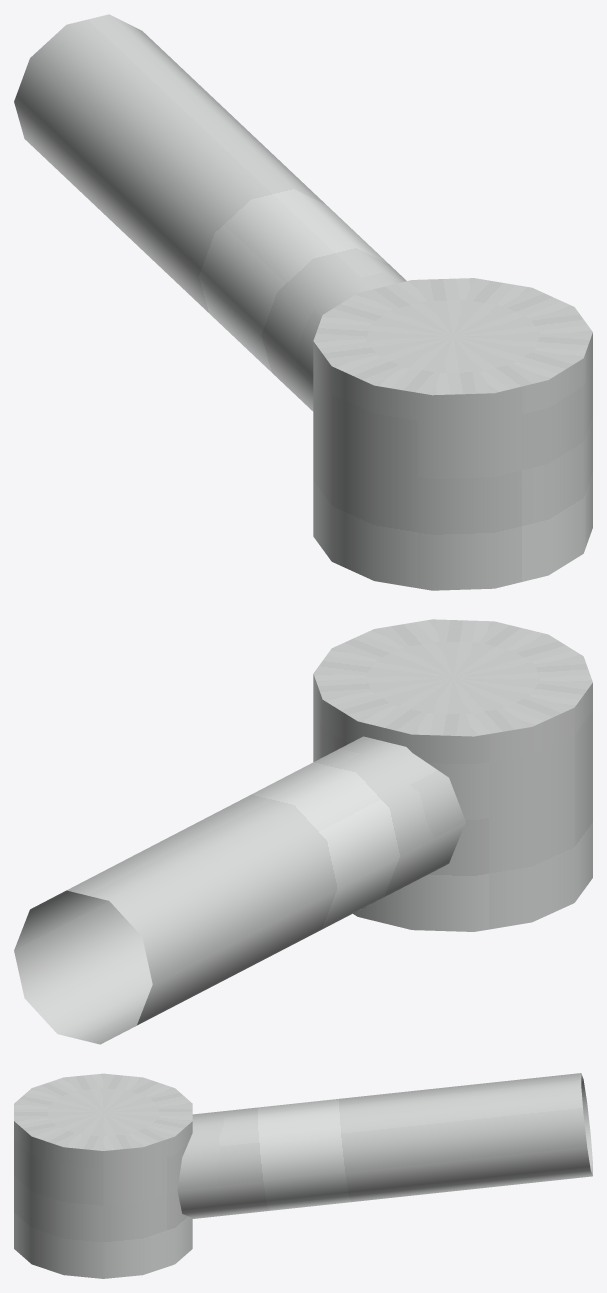
Rendered from trusssignalarm_sloped8_c0_thin.obj.
3 renders of one model, top to bottom at view 1: azimuth 30°, elevation 25°; view 2: azimuth 150°, elevation 25°; view 3: azimuth 270°, elevation 25°, orthographic. The views are drawn at different scales.
Visible parts, largest first — view 1: trusssignalarm_sloped8_c0_thin; view 2: trusssignalarm_sloped8_c0_thin; view 3: trusssignalarm_sloped8_c0_thin.
Boxes of the visible parts, box(x1,y1,x2,y2) form: trusssignalarm_sloped8_c0_thin: box(14, 14, 592, 590); trusssignalarm_sloped8_c0_thin: box(14, 619, 592, 1044); trusssignalarm_sloped8_c0_thin: box(14, 1073, 592, 1278).
Bounding box in the file's own units: 0.5688 × 0.5487 × 1.8.
